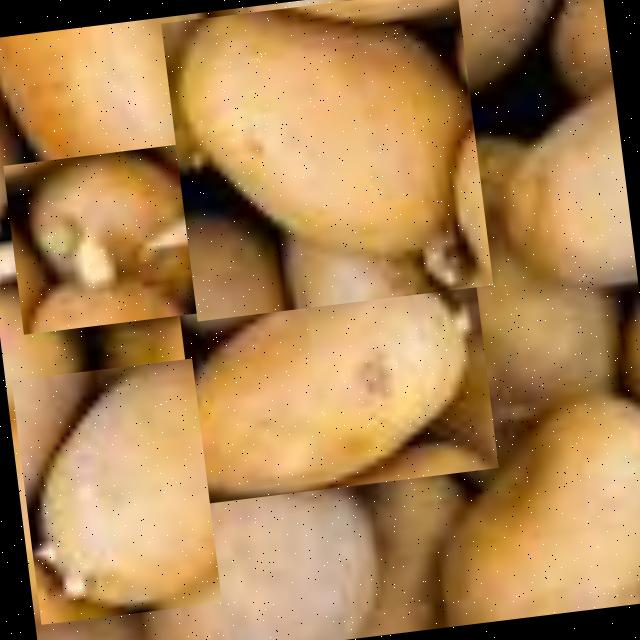Sprouted potato: (161, 0, 493, 321), (177, 263, 498, 504), (11, 358, 222, 624), (0, 13, 220, 252), (3, 141, 224, 334)
